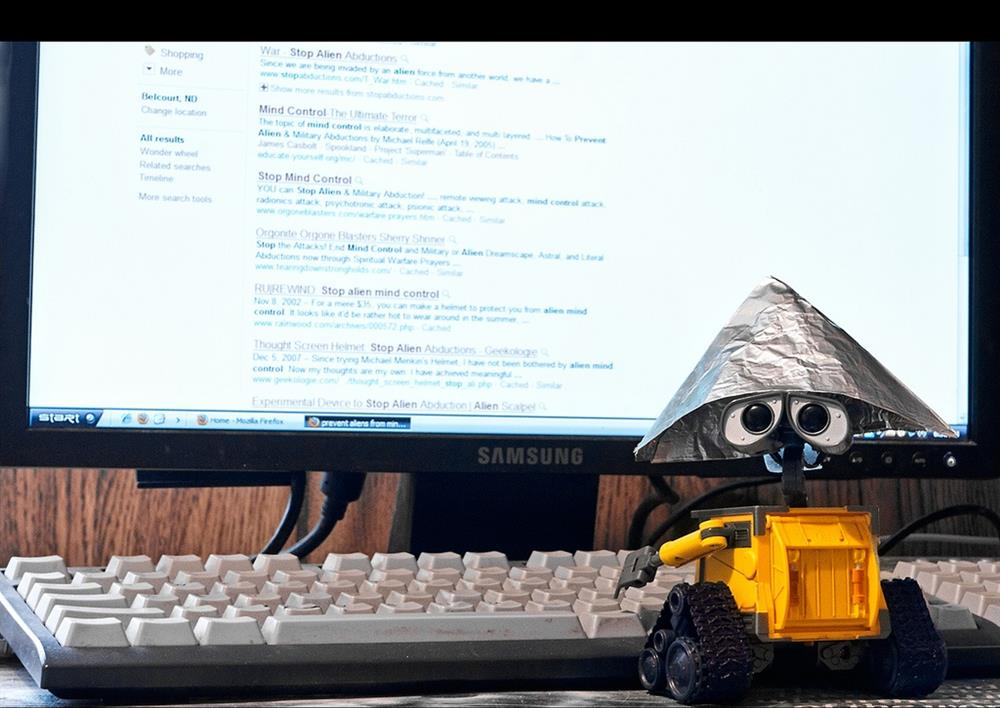walle: (617, 392, 947, 706)
